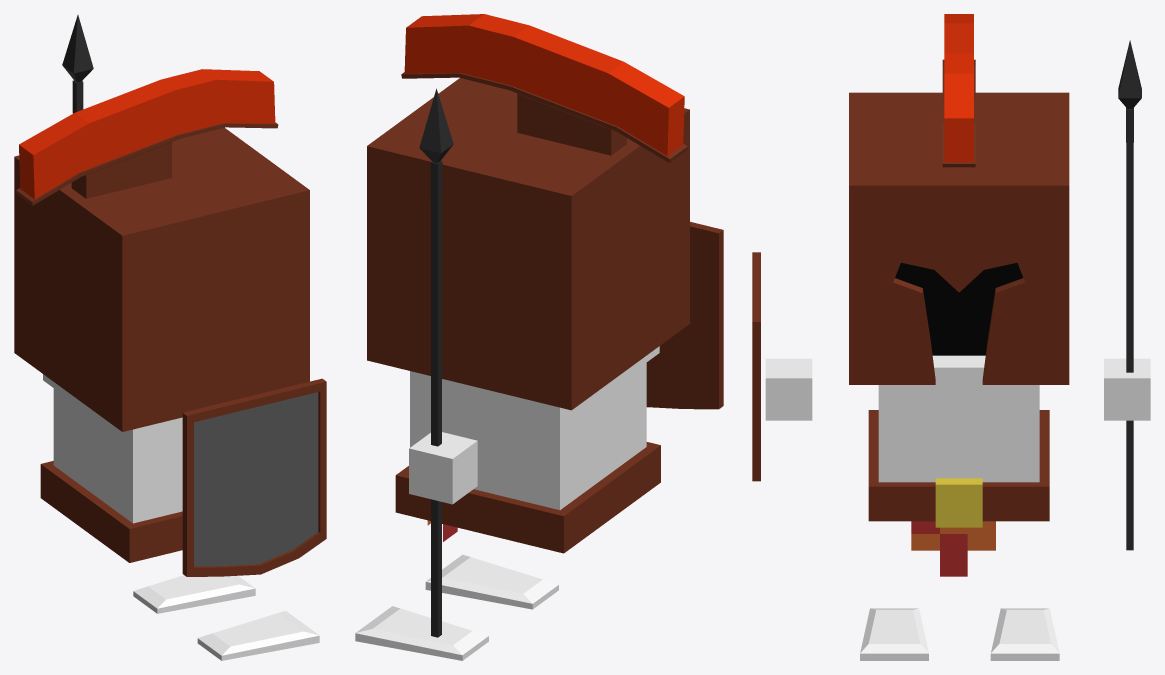
Rendered from Warrior.fbx.
3 renders of one model, left to right at view 1: azimuth 30°, elevation 25°; view 2: azimuth 150°, elevation 25°; view 3: azimuth 270°, elevation 25°, orthographic. The views are drawn at different scales.
Parts seen in each view (by area): view 1: Helmet, Shield, Body, Foot1, Foot2, Spear; view 2: Helmet, Body, Shield, Spear, Hand2, Foot2, Foot1; view 3: Helmet, Body, Head, Spear, Foot2, Foot1, Hand1, BeltP, Hand2, Belt, Shield.
Boxes of the visible parts, x1=… form: Helmet: x1=14, y1=69, x2=309, y2=431; Shield: x1=182, y1=378, x2=326, y2=576; Body: x1=40, y1=382, x2=182, y2=562; Foot1: x1=197, y1=610, x2=319, y2=660; Foot2: x1=133, y1=575, x2=255, y2=613; Spear: x1=62, y1=15, x2=93, y2=113; Helmet: x1=367, y1=14, x2=689, y2=410; Body: x1=395, y1=356, x2=660, y2=553; Shield: x1=646, y1=221, x2=723, y2=409; Spear: x1=419, y1=88, x2=453, y2=637; Hand2: x1=409, y1=432, x2=477, y2=504; Foot2: x1=355, y1=606, x2=488, y2=660; Foot1: x1=425, y1=554, x2=558, y2=609; Helmet: x1=849, y1=14, x2=1069, y2=384; Body: x1=868, y1=355, x2=1049, y2=521; Head: x1=895, y1=262, x2=1023, y2=355; Spear: x1=1118, y1=40, x2=1141, y2=550; Foot2: x1=990, y1=608, x2=1059, y2=660; Foot1: x1=860, y1=608, x2=928, y2=660; Hand1: x1=765, y1=358, x2=812, y2=420; BeltP: x1=911, y1=521, x2=995, y2=576; Hand2: x1=1104, y1=358, x2=1150, y2=420; Belt: x1=935, y1=478, x2=982, y2=527; Shield: x1=752, y1=252, x2=760, y2=481.
Size of the model in its own units: 291 by 628 by 400.
